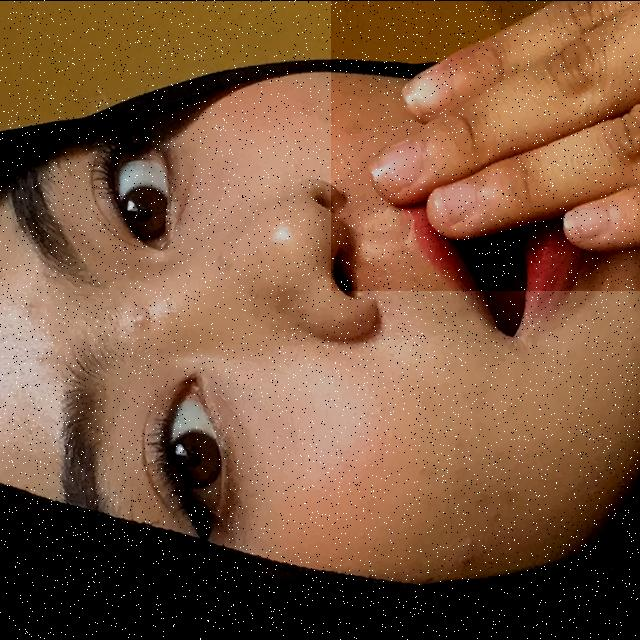ngantuk: (331, 0, 640, 290)
